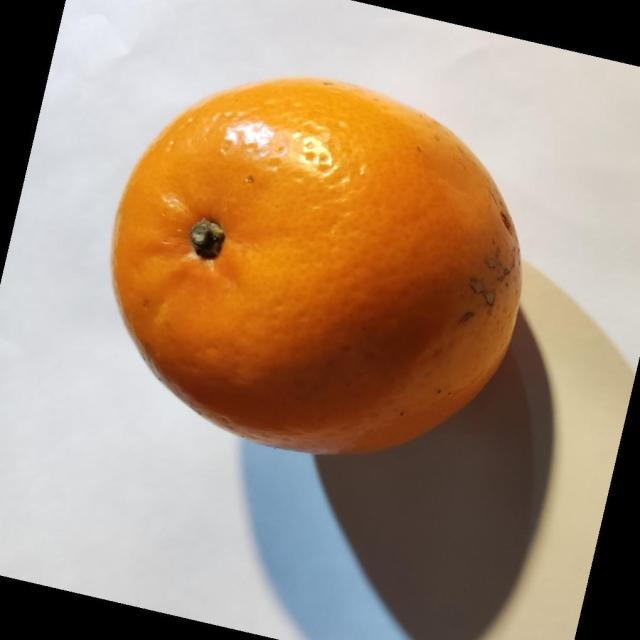agrume: (110, 75, 523, 456)
